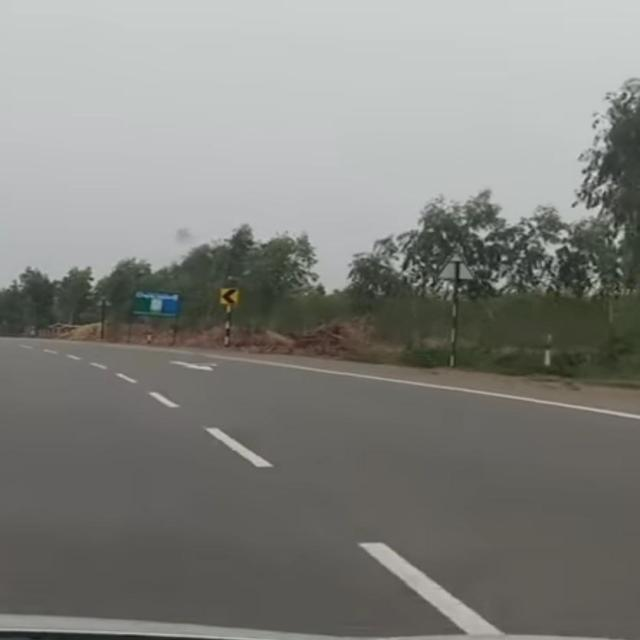chevron_left: (208, 278, 258, 323)
